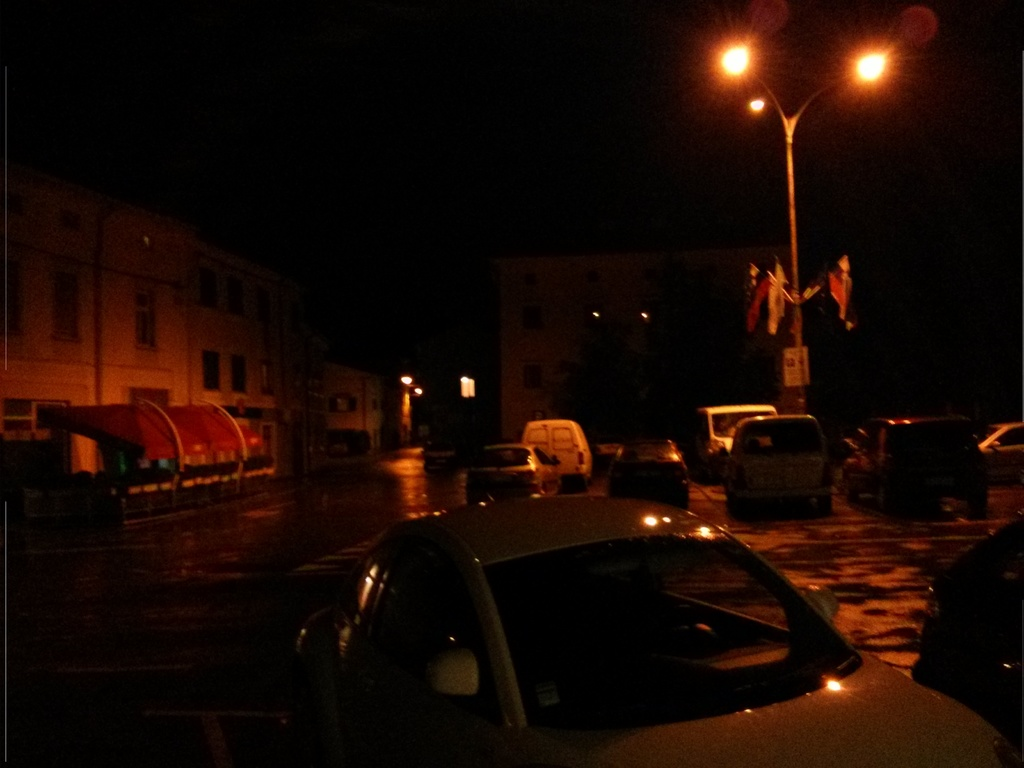Car: (341, 474, 936, 744), (910, 518, 1023, 748), (842, 414, 988, 507), (719, 412, 831, 513), (466, 442, 565, 503), (608, 439, 688, 506), (968, 420, 1023, 474), (590, 439, 615, 455)
